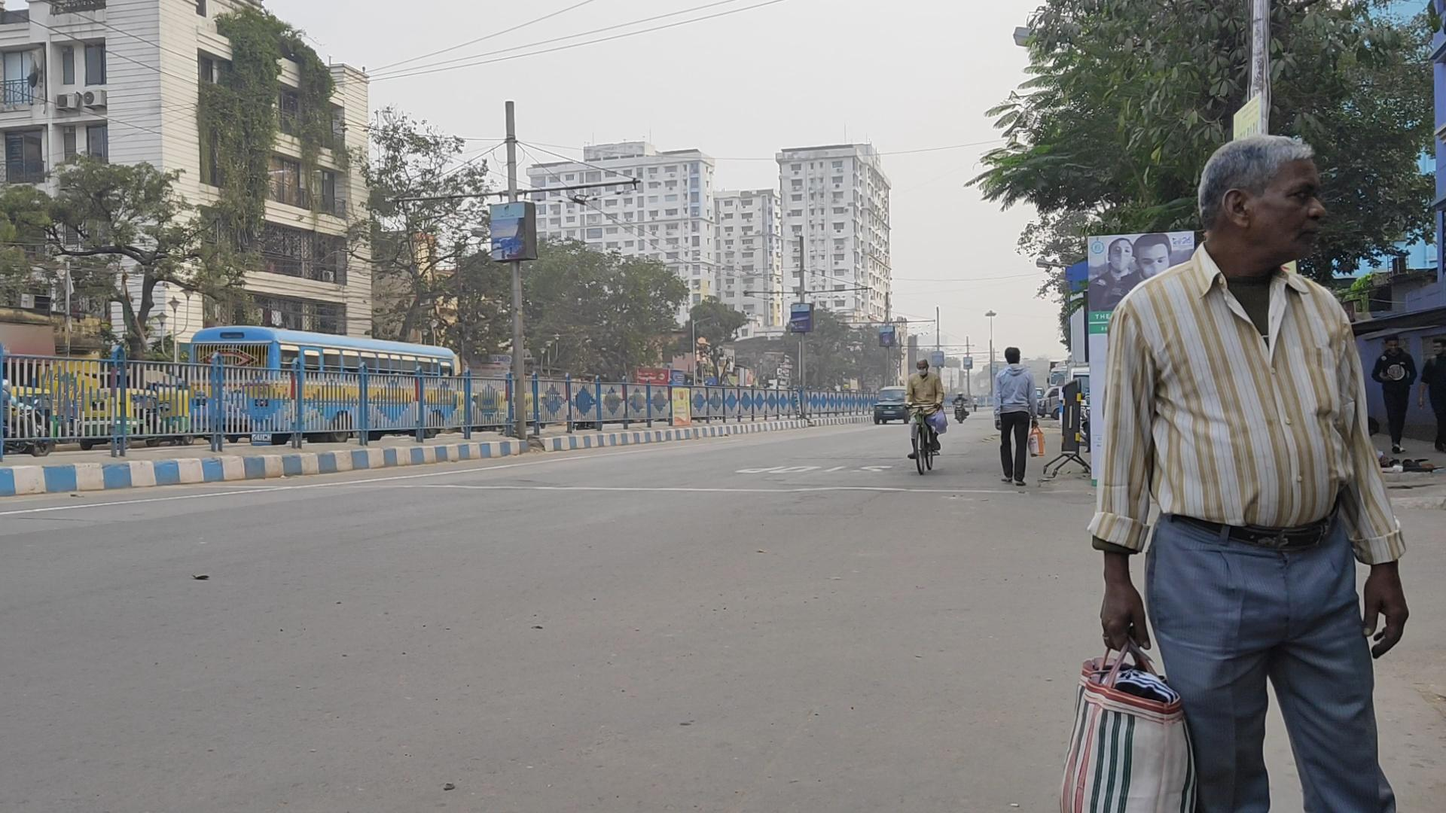bike: (903, 358, 947, 476), (951, 391, 970, 424)
car: (873, 385, 911, 425)
